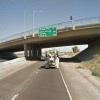Bridge: (4, 14, 99, 49)
